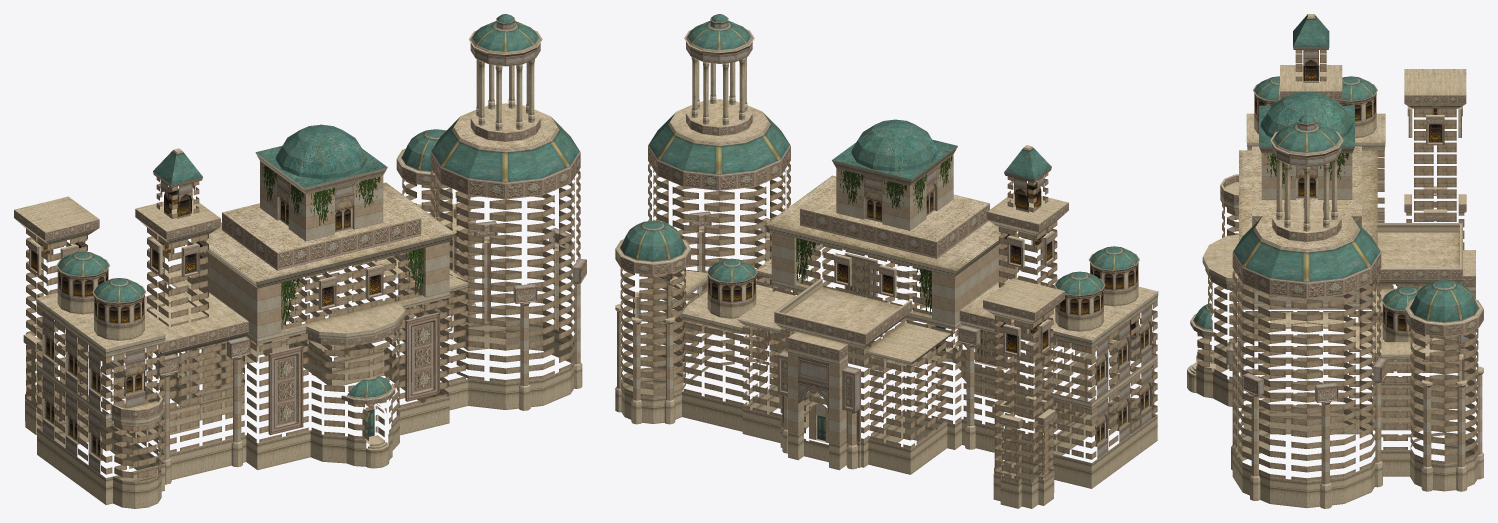
Rendered from thm_nboo_block_bldg_64x32_s02_l0.fbx.
3 renders of one model, left to right at view 1: azimuth 30°, elevation 25°; view 2: azimuth 150°, elevation 25°; view 3: azimuth 270°, elevation 25°, orthographic. The views are drawn at different scales.
Visible parts, largest first — view 1: mesh_node; view 2: mesh_node; view 3: mesh_node.
Part boxes in pixels (box(x1,y1,x2,y2)): mesh_node: box(14, 14, 586, 508); mesh_node: box(615, 14, 1158, 508); mesh_node: box(1187, 14, 1483, 508).
Size of the model in its own units: 62.53 by 43.44 by 32.38.
